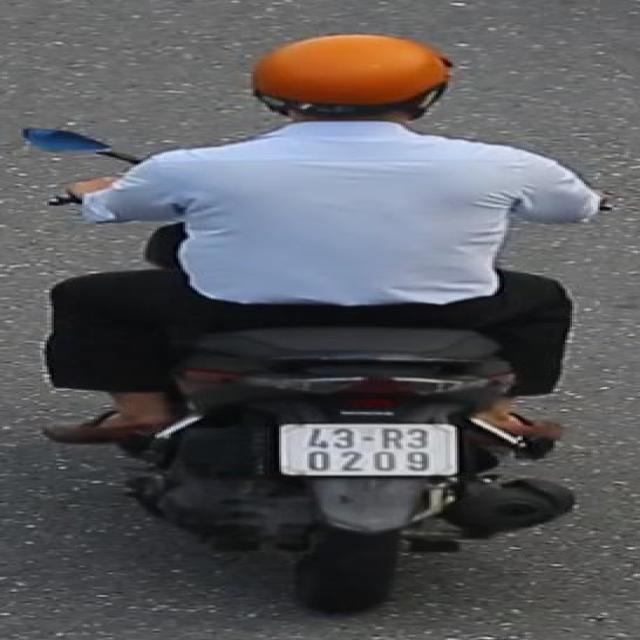LP: (271, 416, 465, 479)
helmet: (241, 30, 455, 139)
